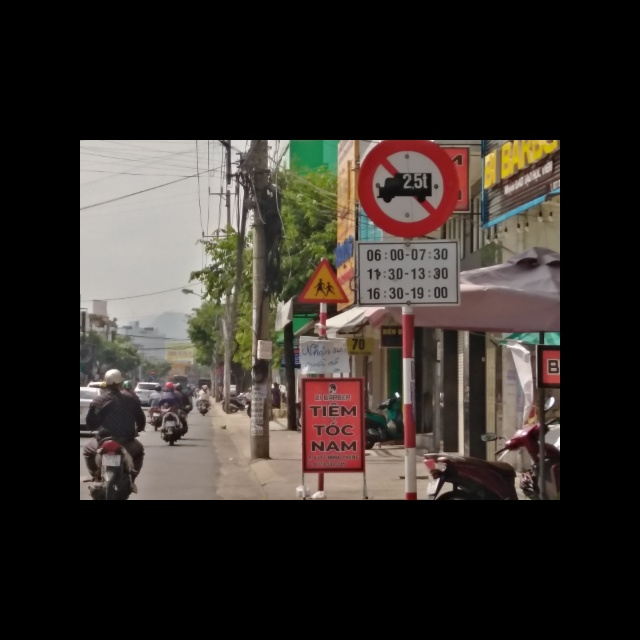Cấm xe tải: (356, 140, 459, 238)
Trẻ em ngang qua: (297, 259, 351, 303)
